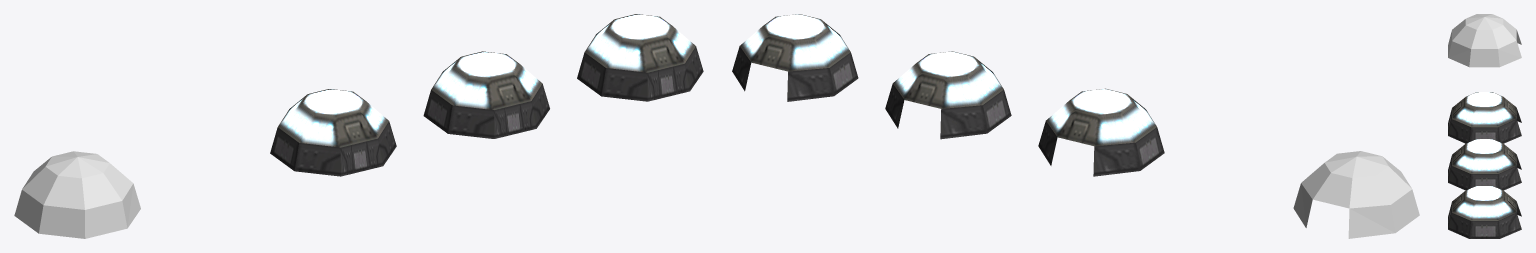
Rendered from ksh_sec_dreadnought_cannon.dae.
3 views of the same model, side by side, from view 1: azimuth 30°, elevation 25°; view 2: azimuth 150°, elevation 25°; view 3: azimuth 270°, elevation 25° (orthographic). The views are drawn at different scales.
Visible parts, largest first — view 1: MULT[root_mesh]_LOD[0], COL[Root], MULT[root_mesh]_LOD[1], MULT[root_mesh]_LOD[2]; view 2: MULT[root_mesh]_LOD[1], MULT[root_mesh]_LOD[2], MULT[root_mesh]_LOD[0], COL[Root]; view 3: COL[Root], MULT[root_mesh]_LOD[2], MULT[root_mesh]_LOD[0], MULT[root_mesh]_LOD[1].
Part boxes in pixels (x1=…): MULT[root_mesh]_LOD[0]: x1=270, y1=89, x2=396, y2=176; COL[Root]: x1=14, y1=151, x2=140, y2=238; MULT[root_mesh]_LOD[1]: x1=423, y1=51, x2=549, y2=138; MULT[root_mesh]_LOD[2]: x1=577, y1=14, x2=703, y2=101; MULT[root_mesh]_LOD[1]: x1=885, y1=51, x2=1011, y2=139; MULT[root_mesh]_LOD[2]: x1=732, y1=14, x2=858, y2=101; MULT[root_mesh]_LOD[0]: x1=1038, y1=88, x2=1164, y2=176; COL[Root]: x1=1293, y1=151, x2=1419, y2=238; COL[Root]: x1=1448, y1=14, x2=1521, y2=67; MULT[root_mesh]_LOD[2]: x1=1448, y1=185, x2=1521, y2=238; MULT[root_mesh]_LOD[0]: x1=1448, y1=92, x2=1521, y2=143; MULT[root_mesh]_LOD[1]: x1=1448, y1=139, x2=1521, y2=190.
Size of the model in its own units: 473 by 37.59 by 72.72.
2 materials, 2 textured.
